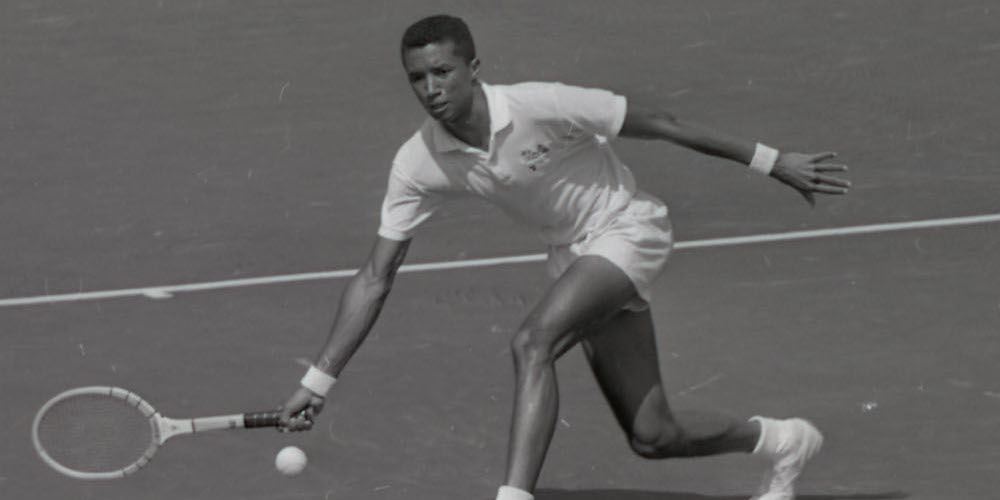tennis_ball: (274, 446, 309, 476)
